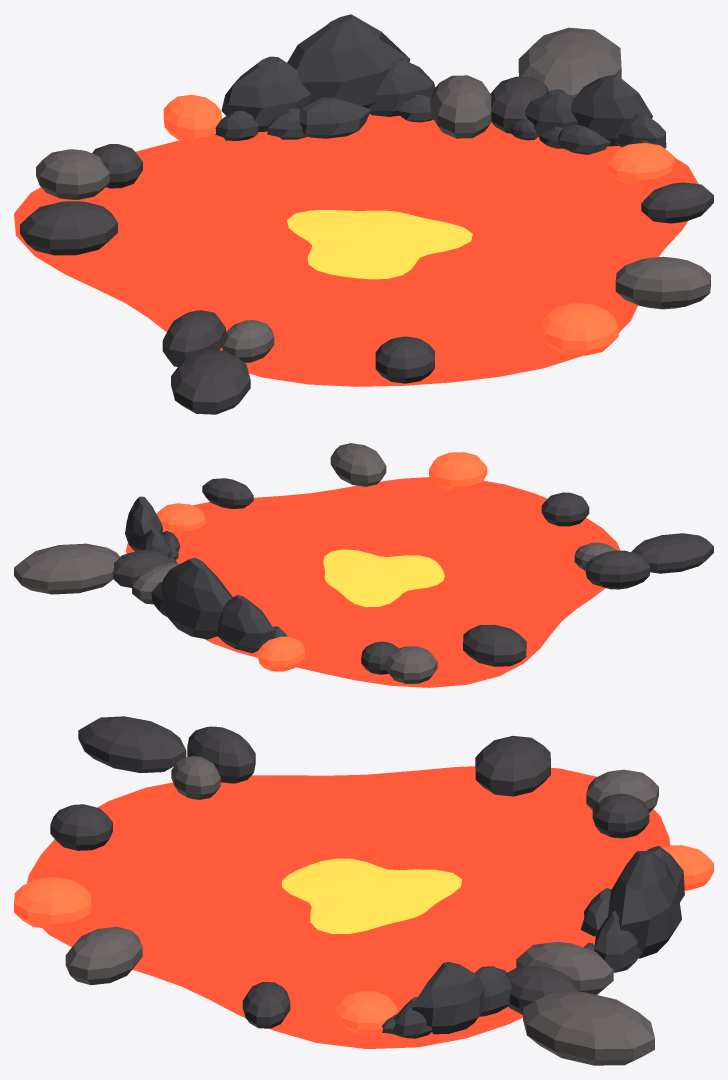
File: lava.glb
The picture shows the model from 3 angles, top to bottom: view 1: azimuth 30°, elevation 25°; view 2: azimuth 150°, elevation 25°; view 3: azimuth 270°, elevation 25°; orthographic projection. The views are drawn at different scales.
Parts seen in each view (by area): view 1: lavaSurface_pool, shoreRock304.001, lavaSurface_core, shoreRock282.001, lavaRock_00, lavaCrust_07, lavaCrust_14, lavaRock_01, lavaCrust_12, lavaCrust_02, lavaCrust_06, lavaCrust_09 (+7 smaller); view 2: lavaSurface_pool, shoreRock304.001, lavaSurface_core, lavaRock_00, lavaRock_01, lavaCrust_07, lavaCrust_09, shoreRock282.001, lavaCrust_14, lavaCrust_12, lavaCrust_06, lavaCrust_04 (+7 smaller); view 3: lavaSurface_pool, lavaSurface_core, shoreRock304.001, lavaRock_00, shoreRock282.001, lavaRock_01, lavaCrust_07, lavaCrust_14, lavaCrust_12, lavaCrust_02, lavaCrust_09, lavaCrust_11 (+7 smaller).
Part boxes in pixels (x1,y1,x2,y2): lavaSurface_pool: (14, 114, 698, 386); shoreRock304.001: (215, 14, 435, 140); lavaSurface_core: (287, 210, 472, 279); shoreRock282.001: (509, 75, 666, 154); lavaRock_00: (518, 27, 621, 98); lavaCrust_07: (20, 201, 117, 255); lavaCrust_14: (615, 256, 710, 309); lavaRock_01: (171, 350, 250, 414); lavaCrust_12: (540, 303, 618, 355); lavaCrust_02: (429, 75, 491, 138); lavaCrust_06: (36, 149, 109, 199); lavaCrust_09: (162, 310, 225, 366); lavaSurface_pool: (125, 477, 620, 687); shoreRock304.001: (151, 557, 287, 652); lavaSurface_core: (323, 549, 444, 607); lavaRock_00: (14, 543, 119, 594); lavaRock_01: (631, 533, 713, 573); lavaCrust_07: (463, 624, 526, 666); lavaCrust_09: (585, 550, 649, 589); shoreRock282.001: (125, 496, 179, 563); lavaCrust_14: (330, 443, 386, 486); lavaCrust_12: (429, 452, 487, 490); lavaCrust_06: (385, 646, 437, 683); lavaCrust_04: (258, 636, 305, 671); lavaSurface_pool: (27, 766, 670, 1048); lavaSurface_core: (282, 858, 461, 933); shoreRock304.001: (580, 846, 684, 972); lavaRock_00: (523, 992, 654, 1065); shoreRock282.001: (381, 962, 511, 1038); lavaRock_01: (78, 716, 186, 772); lavaCrust_07: (475, 736, 550, 796); lavaCrust_14: (65, 926, 142, 985); lavaCrust_12: (14, 877, 91, 929); lavaCrust_02: (516, 942, 613, 994); lavaCrust_09: (187, 726, 255, 783); lavaCrust_11: (50, 804, 112, 850).
Size of the model in its own units: 9.28 by 1.38 by 8.26.
